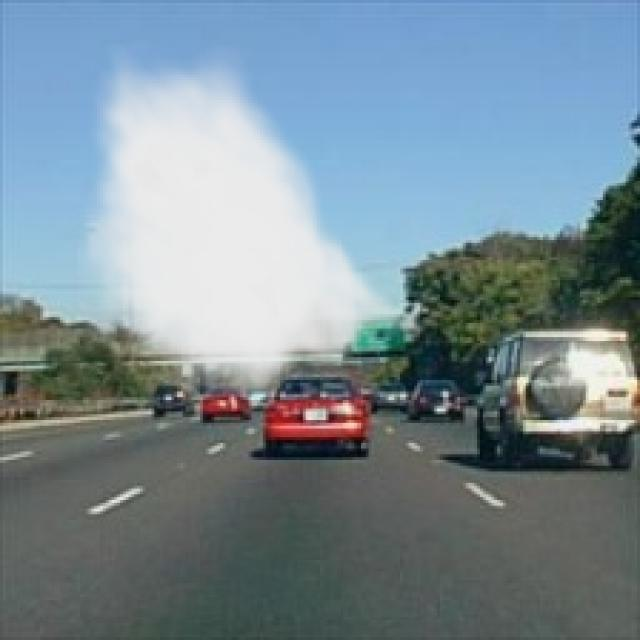Smoke: (74, 39, 434, 412)
